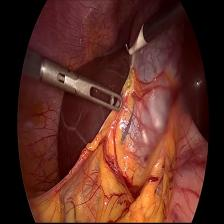Grasper: (61, 70, 124, 116)
Hook: (121, 25, 149, 57)
